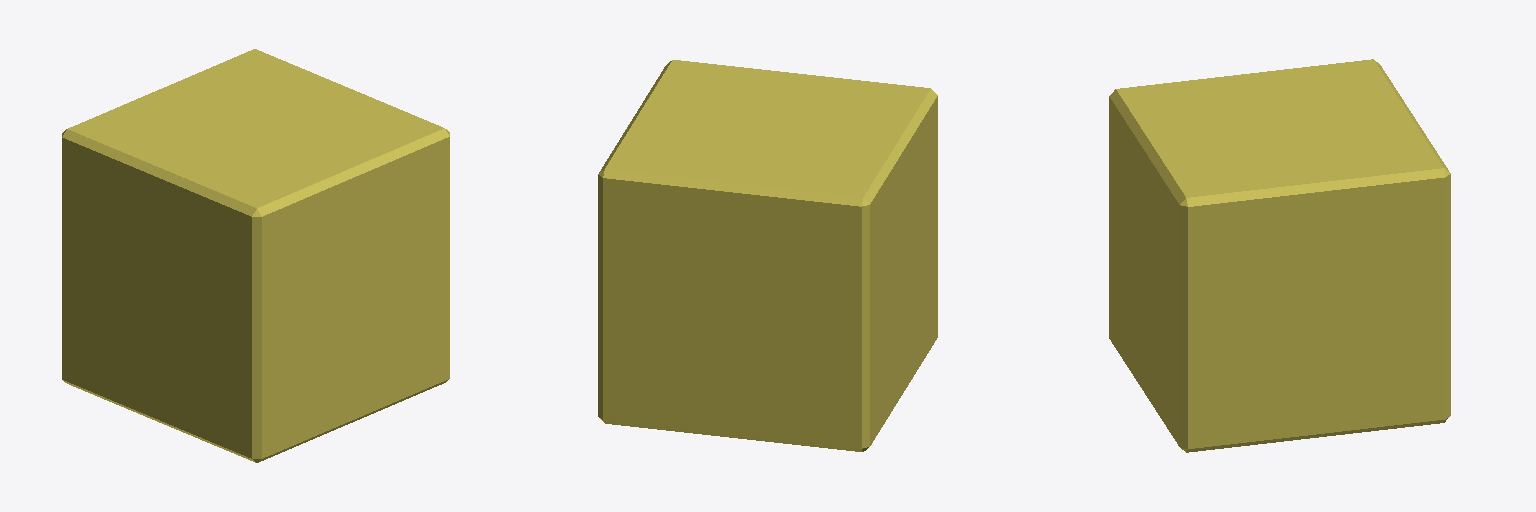
Rendered from glass_cube.obj.
The picture shows the model from 3 angles: view 1: azimuth 30°, elevation 25°; view 2: azimuth 150°, elevation 25°; view 3: azimuth 270°, elevation 25°; orthographic projection.
Visible parts, largest first — view 1: Cube_Cube.001; view 2: Cube_Cube.001; view 3: Cube_Cube.001.
Boxes of the visible parts, x1,y1,x2,y2 form: Cube_Cube.001: [62, 49, 449, 462]; Cube_Cube.001: [598, 60, 937, 451]; Cube_Cube.001: [1109, 59, 1450, 452].
Size of the model in its own units: 2.43 by 2 by 2.43.